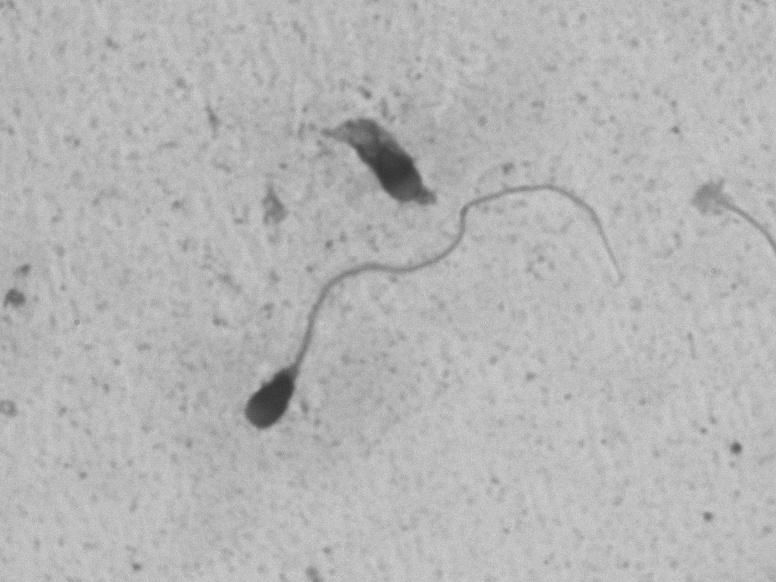Abnormal: (207, 171, 655, 455)
